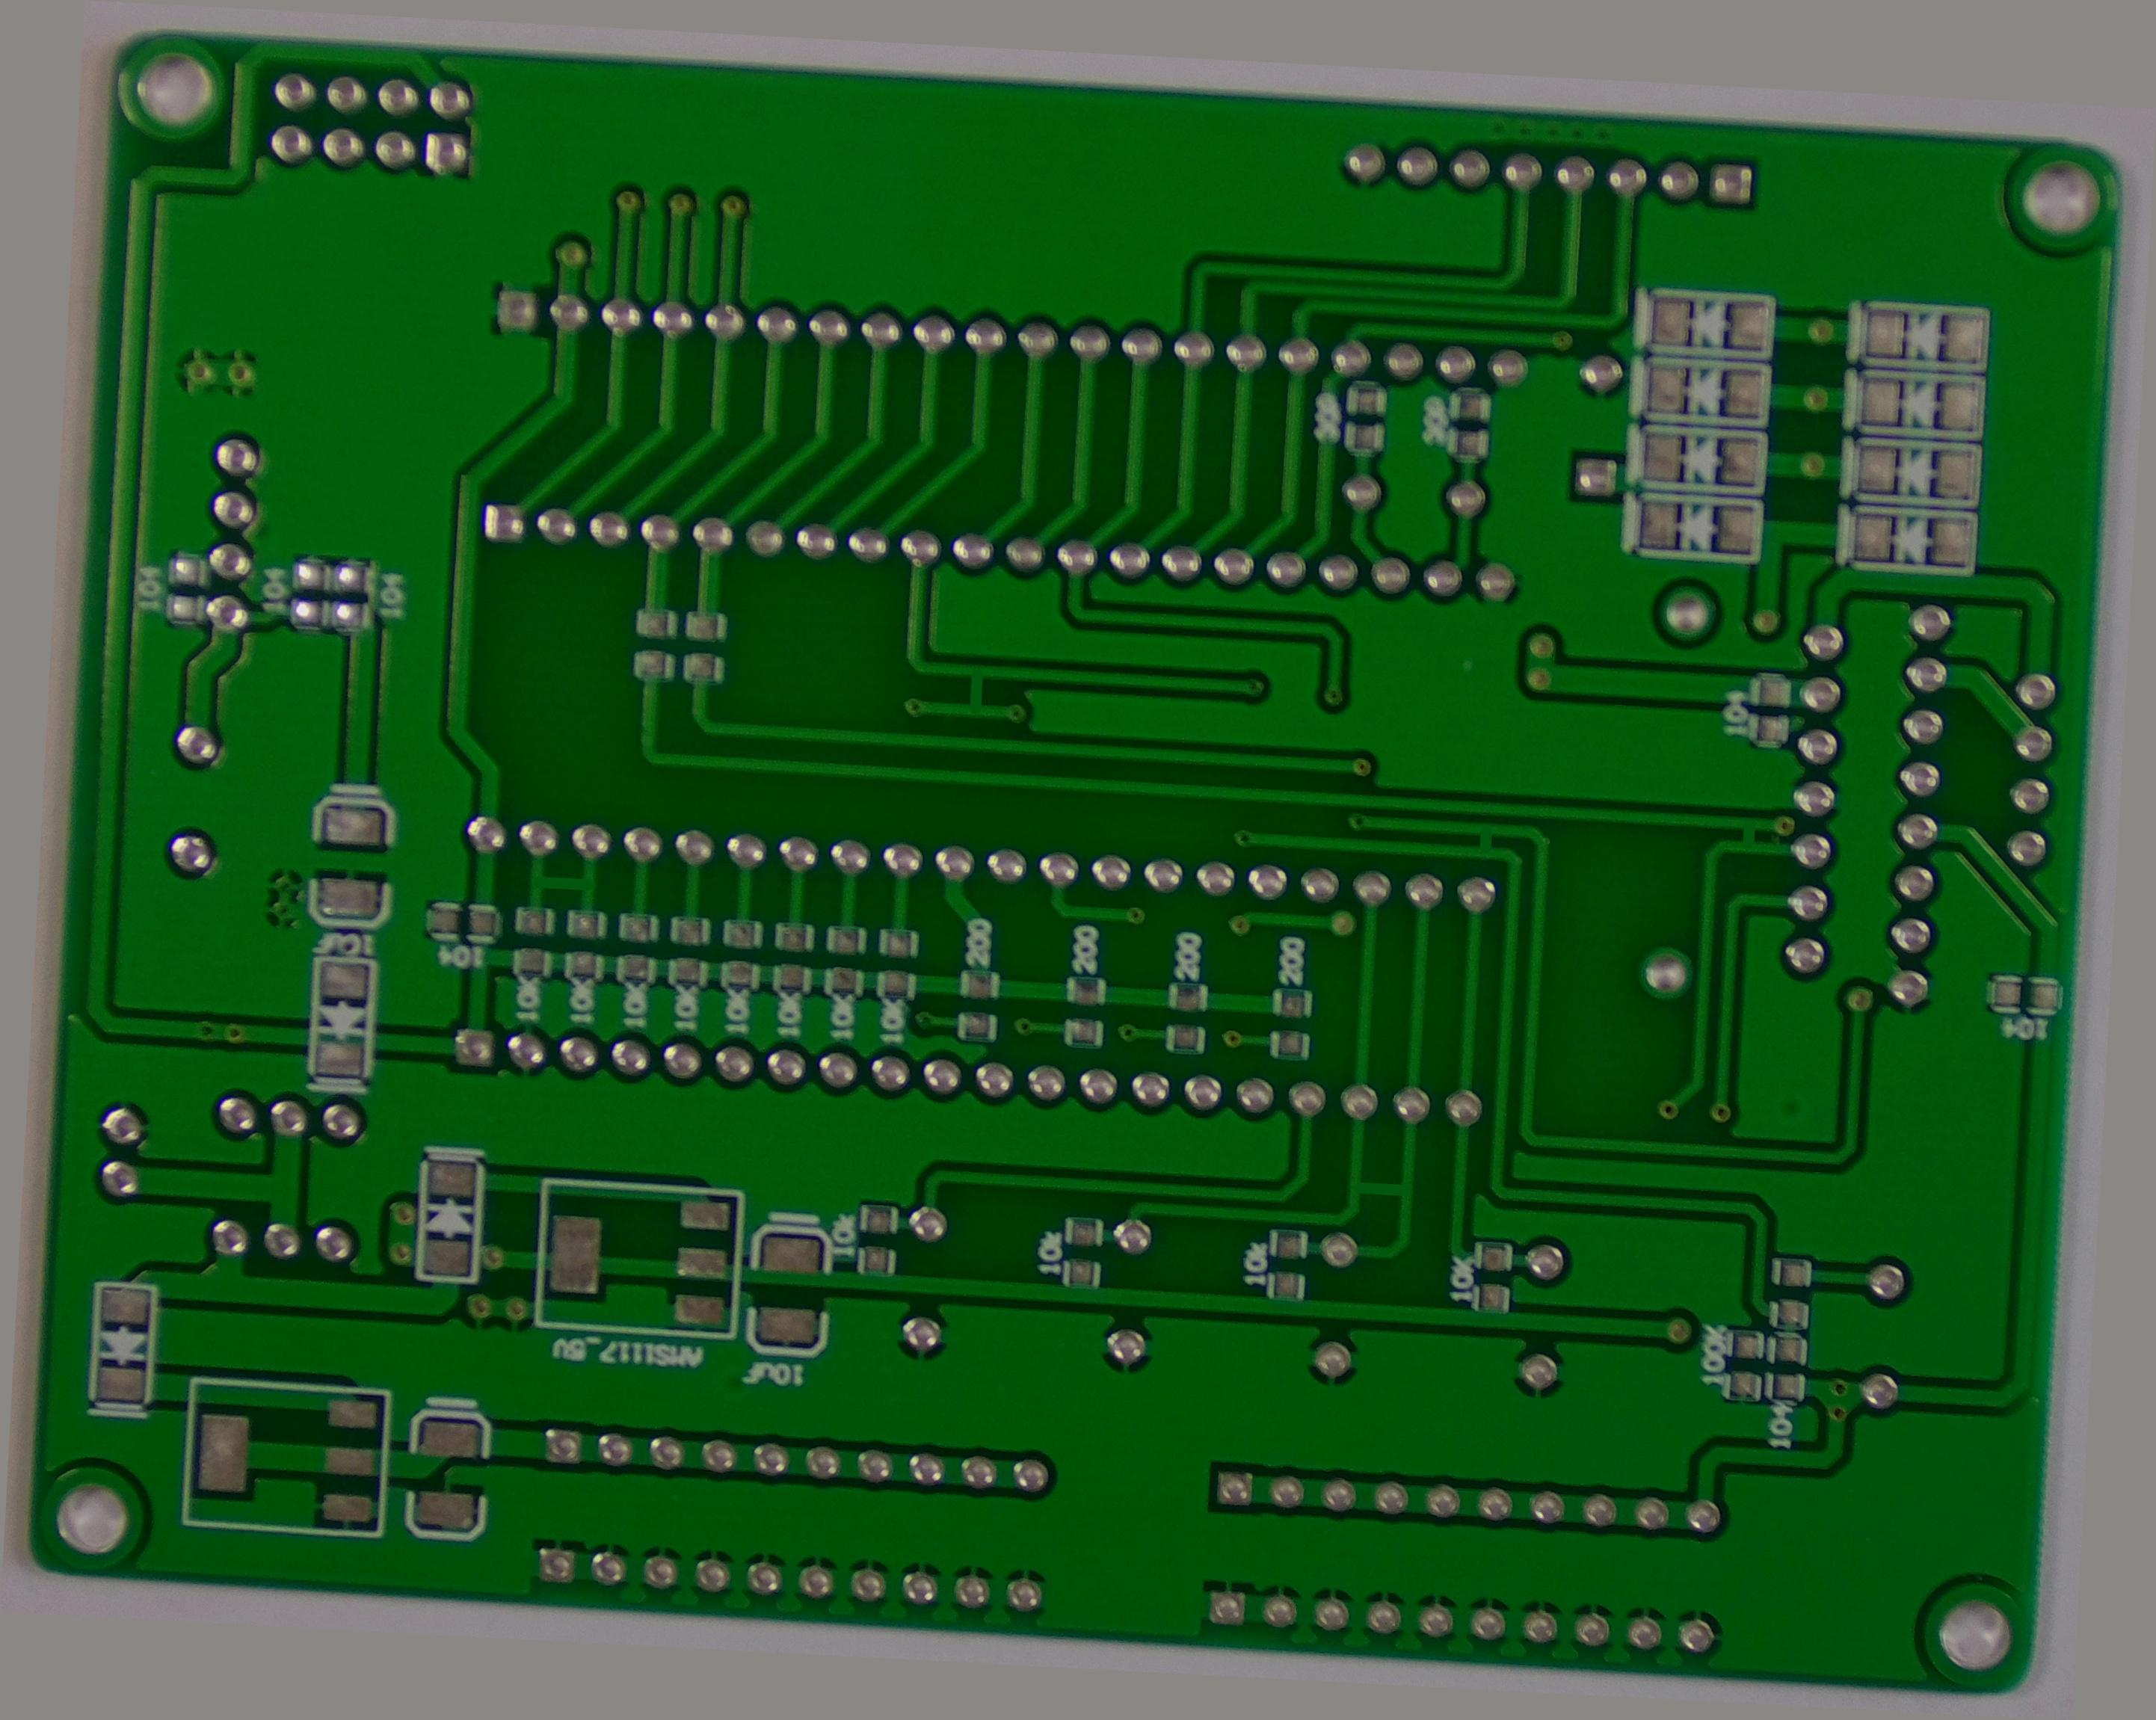short: (1334, 1158, 1424, 1213), (939, 653, 1001, 727), (521, 865, 602, 900), (1459, 813, 1508, 867), (1722, 811, 1768, 858)
